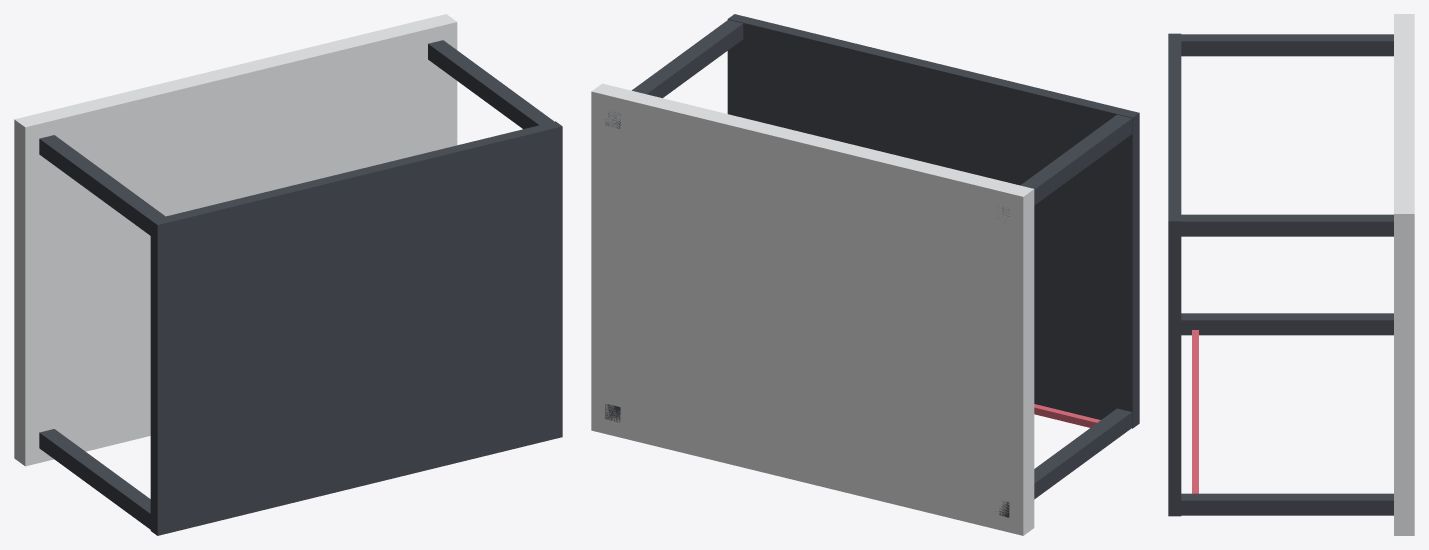
Rendered from final_contact_pavilion.glb.
3 views of the same model, side by side, from view 1: azimuth 30°, elevation 25°; view 2: azimuth 150°, elevation 25°; view 3: azimuth 270°, elevation 25° (orthographic). The views are drawn at different scales.
Visible parts, largest first — view 1: final_contact_pavilion_part_5, final_contact_pavilion_part_0, final_contact_pavilion_part_3, final_contact_pavilion_part_1, final_contact_pavilion_part_4; view 2: final_contact_pavilion_part_0, final_contact_pavilion_part_5, final_contact_pavilion_part_1, final_contact_pavilion_part_3, final_contact_pavilion_part_4, final_contact_pavilion_part_6; view 3: final_contact_pavilion_part_0, final_contact_pavilion_part_5, final_contact_pavilion_part_2, final_contact_pavilion_part_3, final_contact_pavilion_part_4, final_contact_pavilion_part_1, final_contact_pavilion_part_6.
Boxes of the visible parts, x1,y1,x2,y2 form: final_contact_pavilion_part_5: [150, 121, 562, 535]; final_contact_pavilion_part_0: [14, 14, 457, 466]; final_contact_pavilion_part_3: [39, 135, 165, 235]; final_contact_pavilion_part_1: [39, 429, 150, 529]; final_contact_pavilion_part_4: [428, 40, 553, 129]; final_contact_pavilion_part_0: [591, 83, 1034, 535]; final_contact_pavilion_part_5: [727, 14, 1139, 428]; final_contact_pavilion_part_1: [999, 408, 1132, 517]; final_contact_pavilion_part_3: [998, 114, 1132, 218]; final_contact_pavilion_part_4: [605, 19, 743, 128]; final_contact_pavilion_part_6: [1034, 404, 1100, 427]; final_contact_pavilion_part_0: [1394, 14, 1414, 535]; final_contact_pavilion_part_5: [1168, 33, 1181, 516]; final_contact_pavilion_part_2: [1181, 493, 1393, 515]; final_contact_pavilion_part_3: [1181, 34, 1393, 56]; final_contact_pavilion_part_4: [1181, 214, 1393, 236]; final_contact_pavilion_part_1: [1181, 313, 1393, 335]; final_contact_pavilion_part_6: [1192, 330, 1198, 493].
Size of the model in its own units: 8 by 6 by 4.16.
